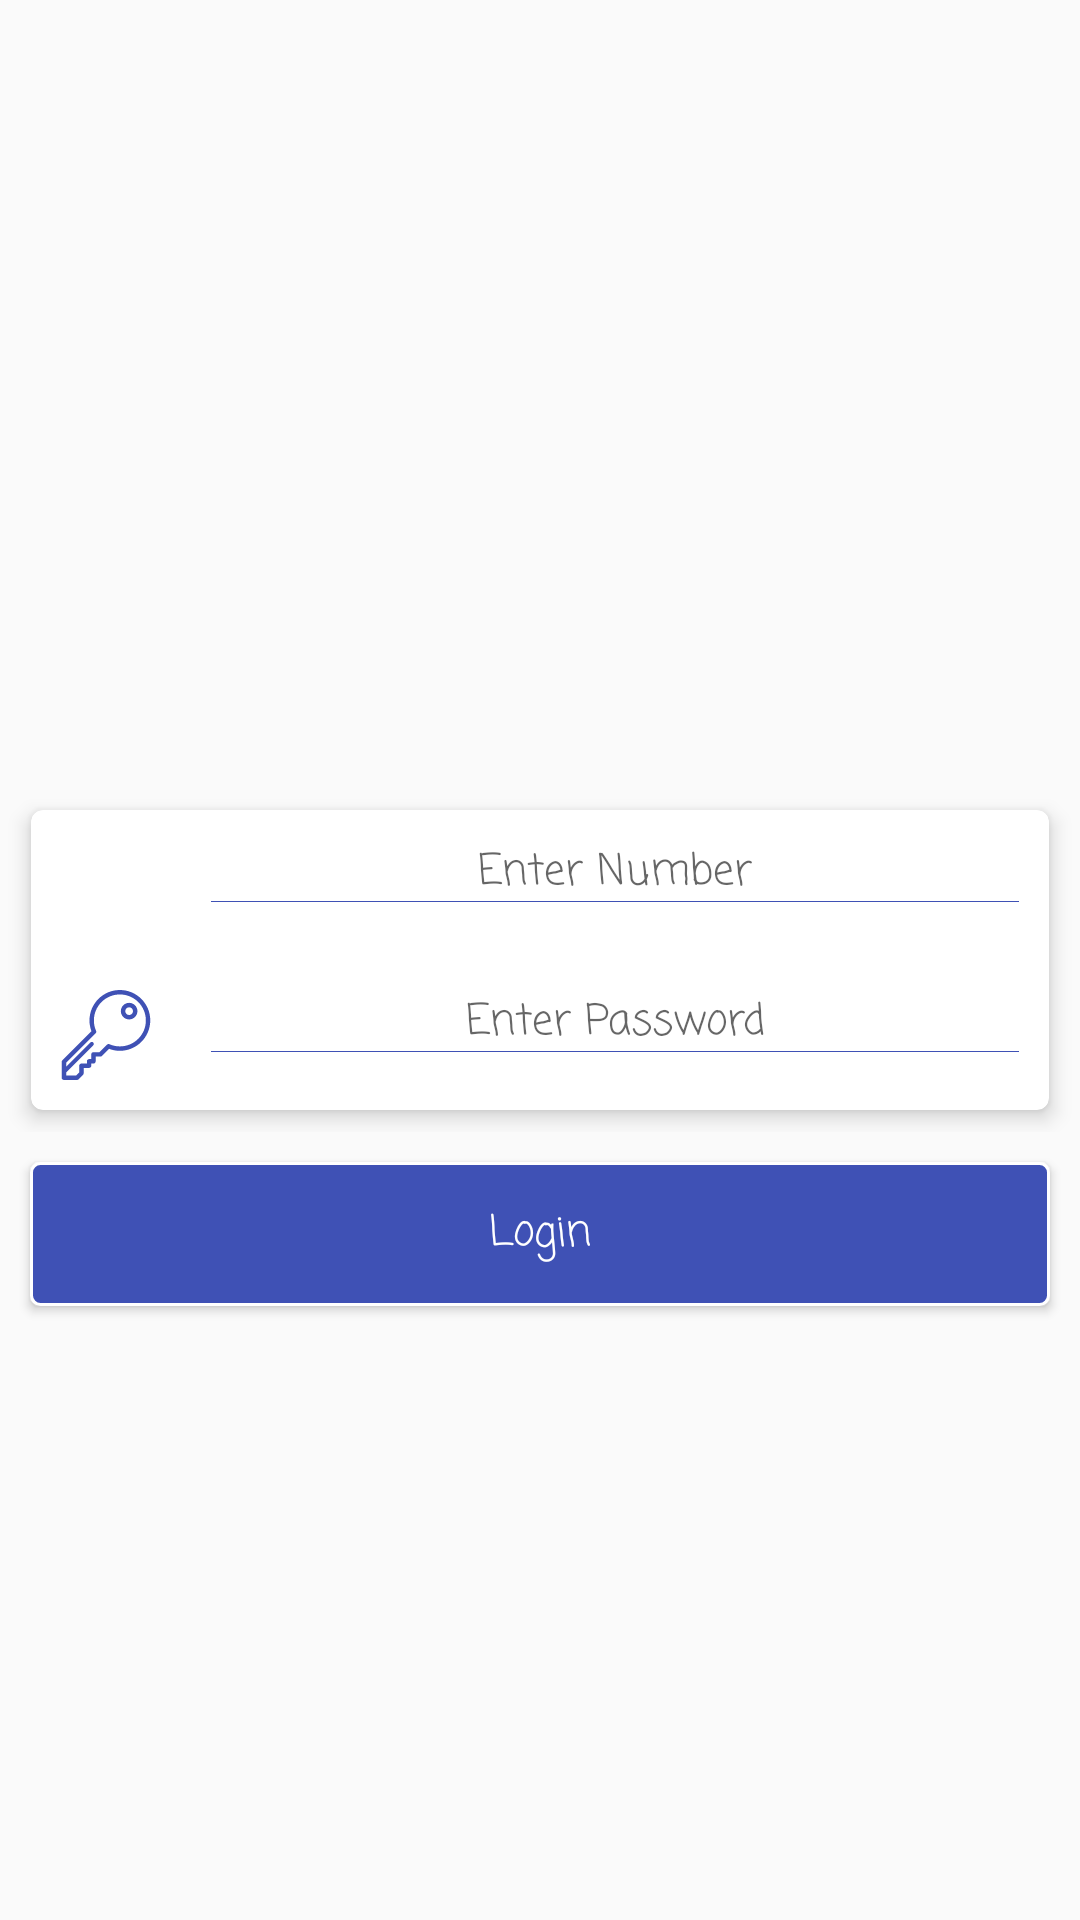

Icons on this 1080*1920 Android screen, each with the point to tap as (x=x, y=y):
key: (x=106, y=1035)
